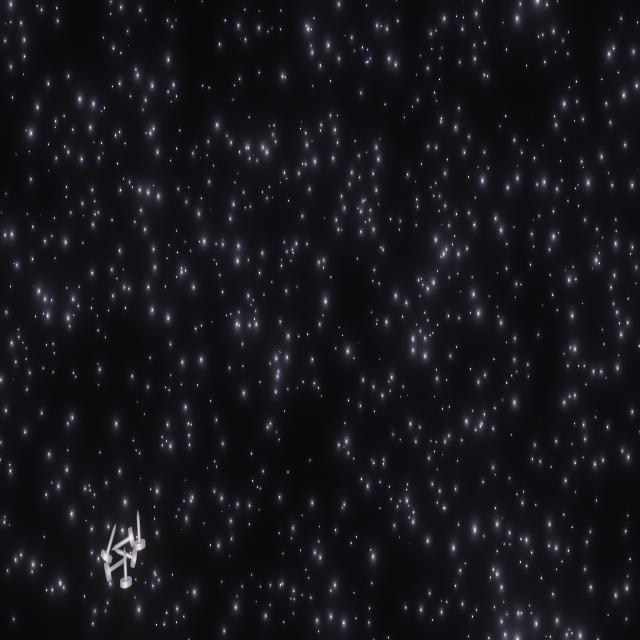large_debris: (103, 514, 148, 602)
